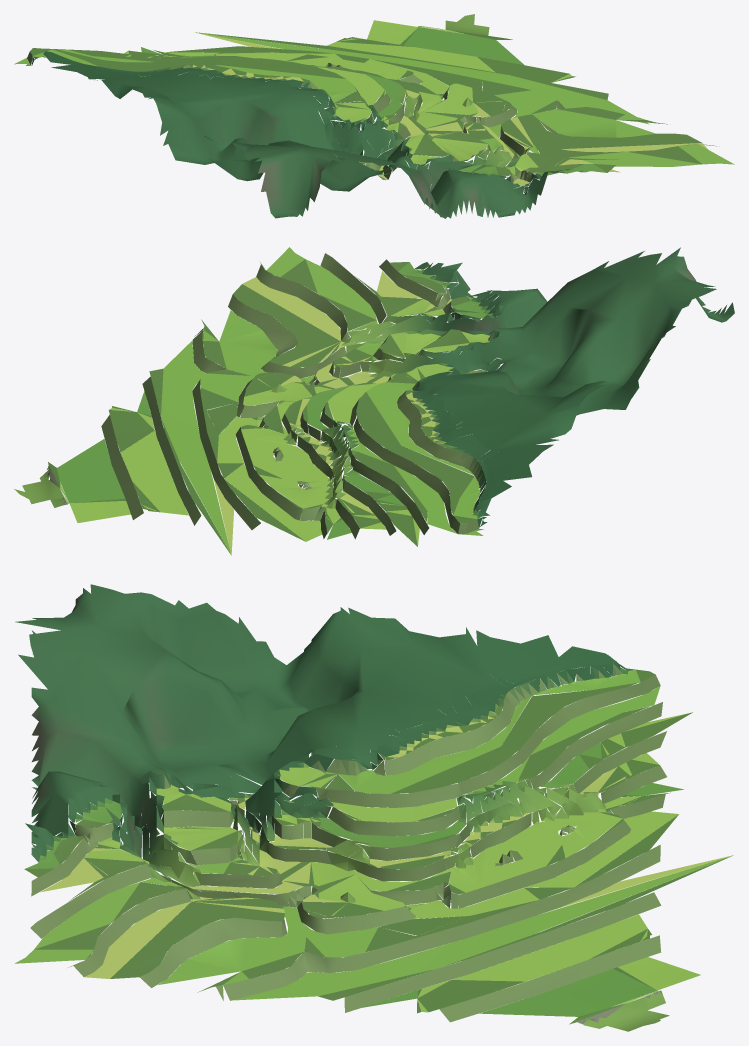
File: payo_land_xm3_y7_lod1.glb
The picture shows the model from 3 angles, top to bottom: view 1: azimuth 30°, elevation 25°; view 2: azimuth 150°, elevation 25°; view 3: azimuth 270°, elevation 25°; orthographic projection. The views are drawn at different scales.
Visible parts, largest first — view 1: payo_land_xm3_y7; view 2: payo_land_xm3_y7; view 3: payo_land_xm3_y7.
Part boxes in pixels (x1,y1,x2,y2): payo_land_xm3_y7: (14, 14, 734, 218); payo_land_xm3_y7: (14, 247, 734, 555); payo_land_xm3_y7: (15, 584, 733, 1031).
Bounding box in the file's own units: 269 × 79.36 × 294.
